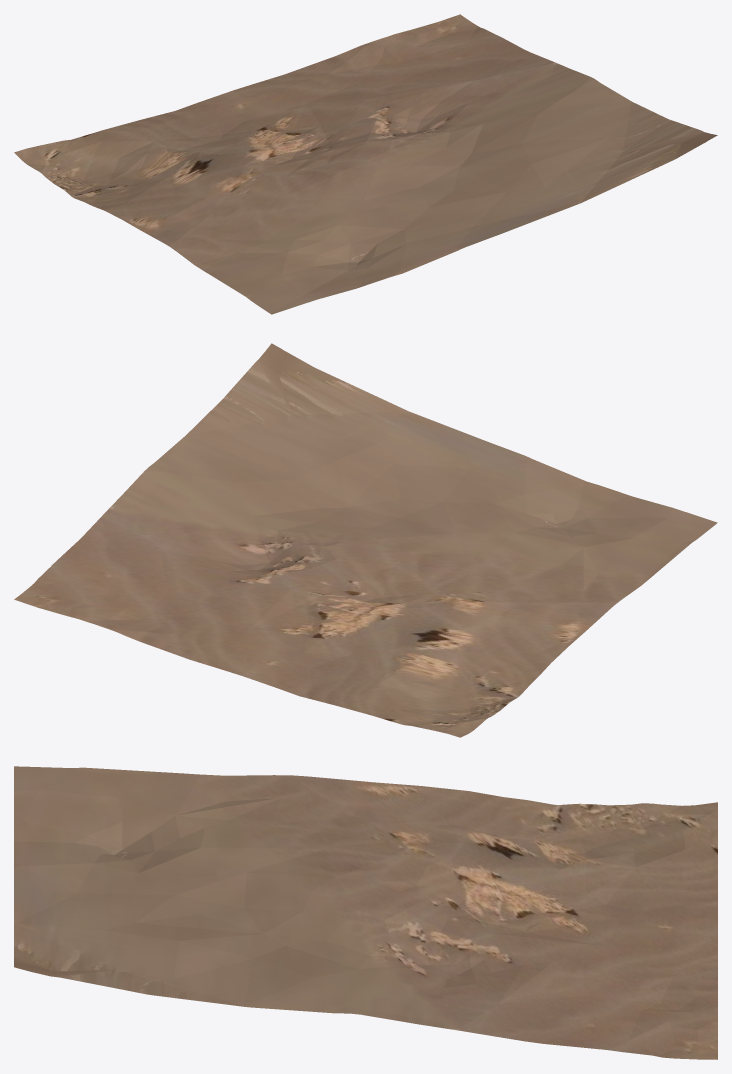
3 views of the same model, one above another, from view 1: azimuth 30°, elevation 25°; view 2: azimuth 150°, elevation 25°; view 3: azimuth 270°, elevation 25° (orthographic). The views are drawn at different scales.
Bounding box in the file's own units: 1.04 × 0.2322 × 1.04.
2 materials, 2 textured.
